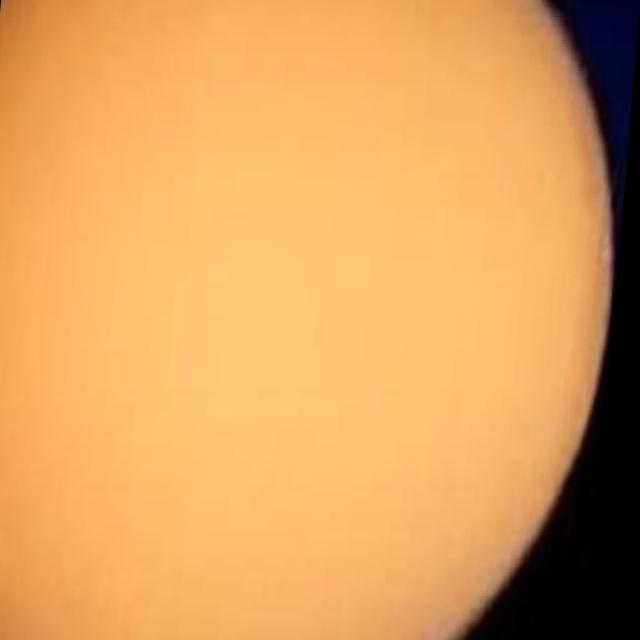fresh: (0, 0, 628, 640)
